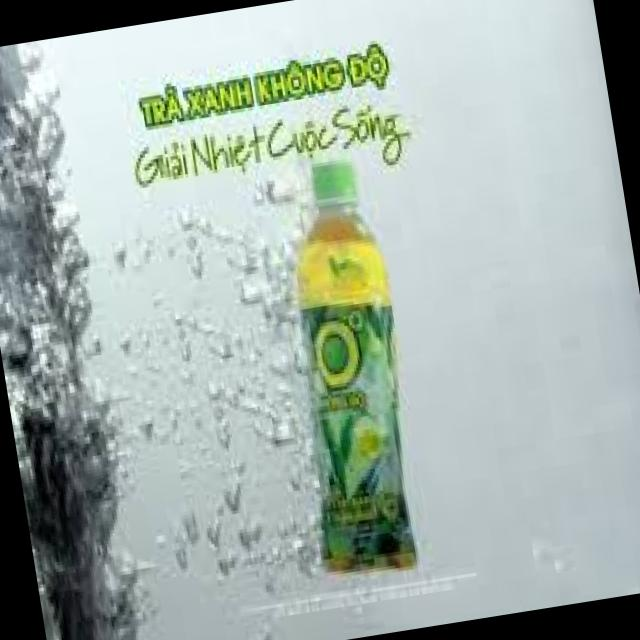tra xanh khong do: (257, 154, 438, 592)
